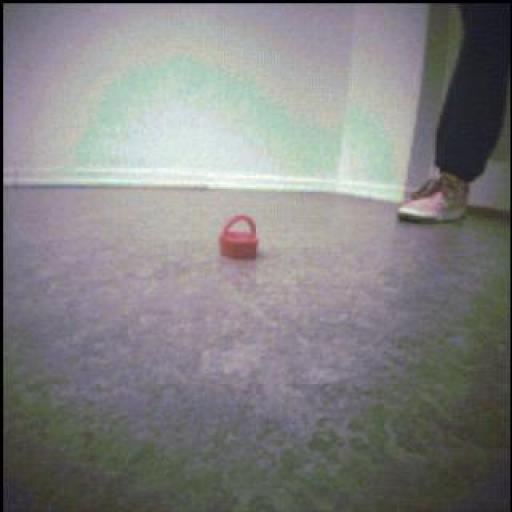Bucket: (218, 214, 260, 261)
